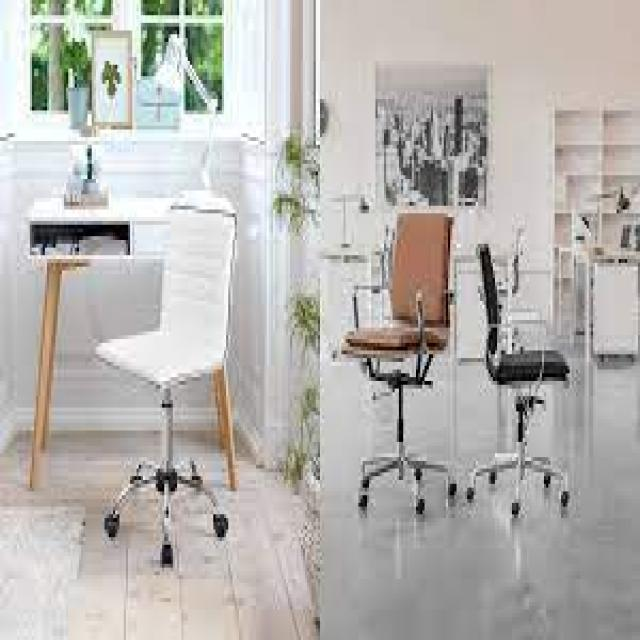chair: (84, 168, 250, 589), (332, 195, 467, 560), (457, 216, 586, 580)
